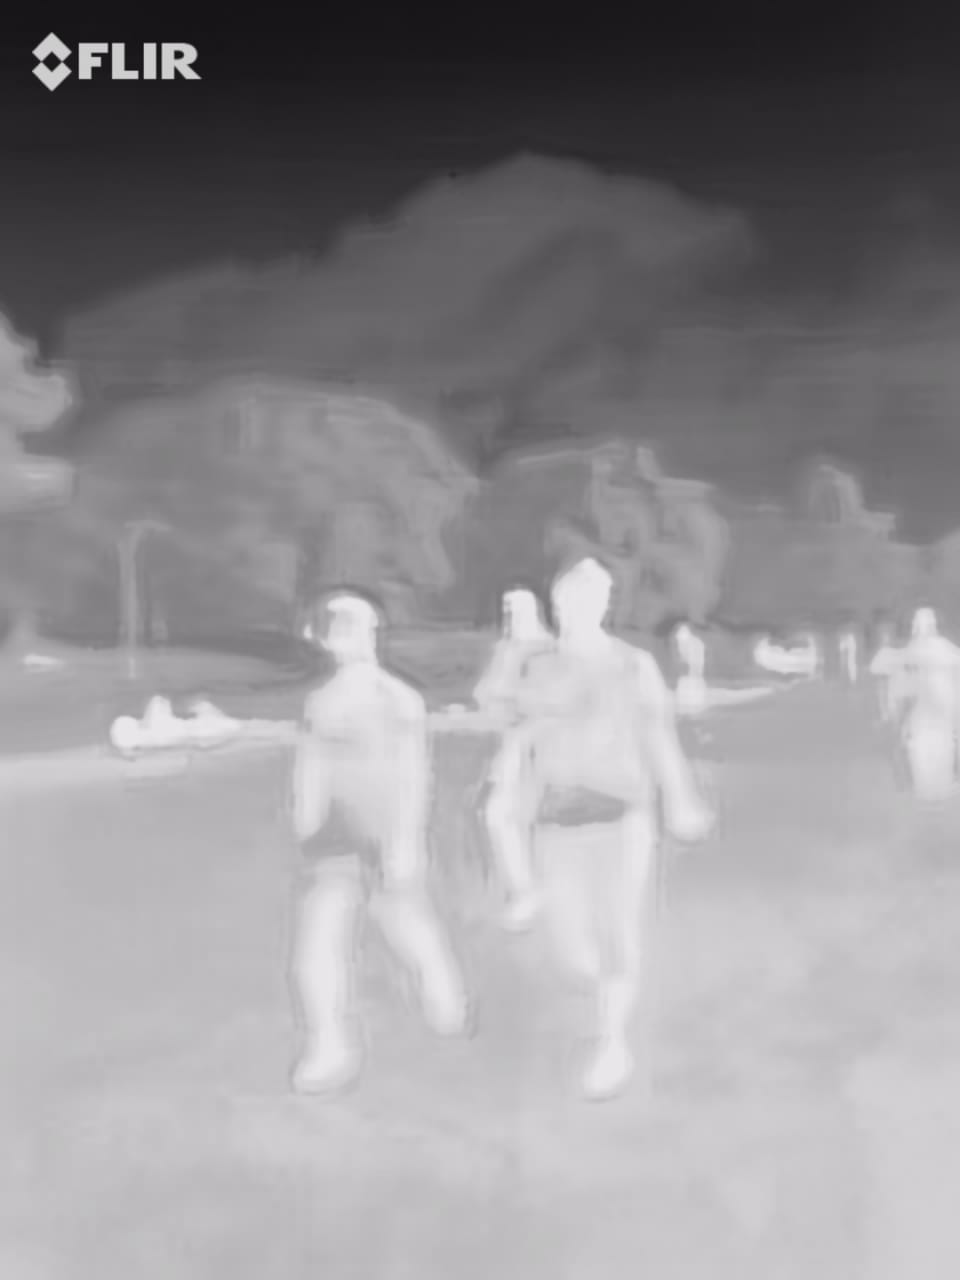head: (294, 591, 415, 672), (551, 556, 619, 646)
